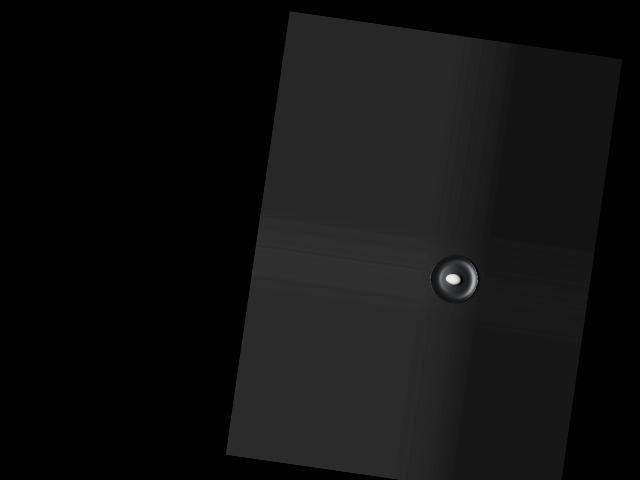egg: (445, 273, 461, 285)
